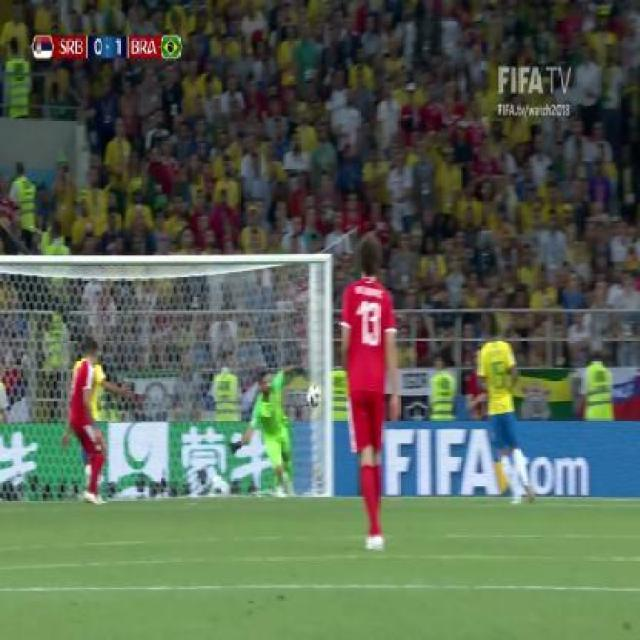ball: (304, 376, 323, 413)
player: (331, 234, 407, 556), (229, 354, 306, 497), (476, 325, 530, 504), (58, 336, 111, 510)
